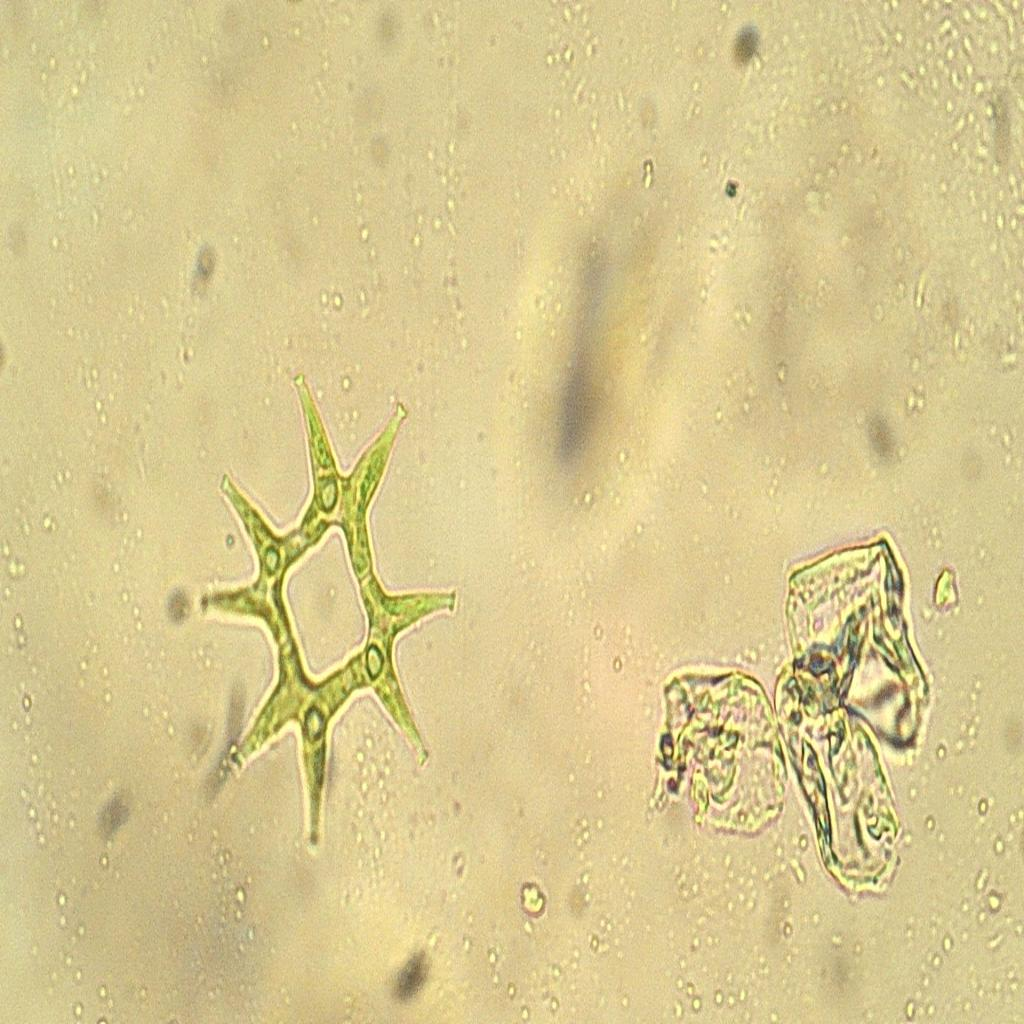Pediastrum_75O: (195, 340, 471, 891)
